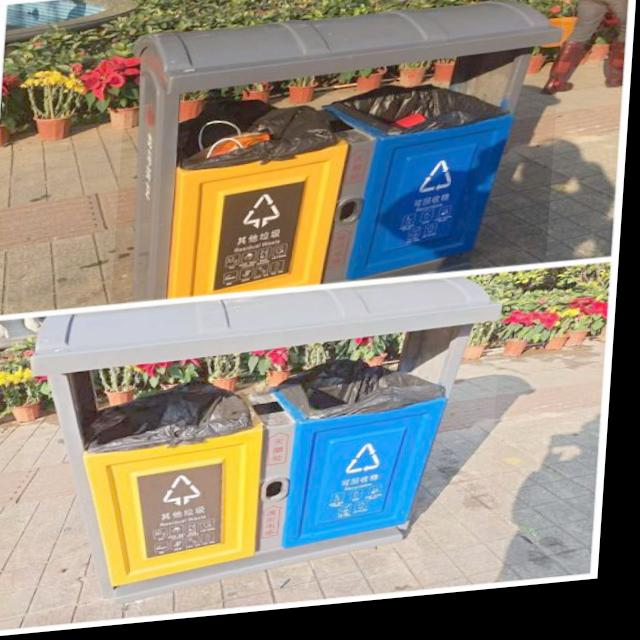garbage_bin: (21, 281, 509, 614)
overflow: (115, 1, 565, 305)
